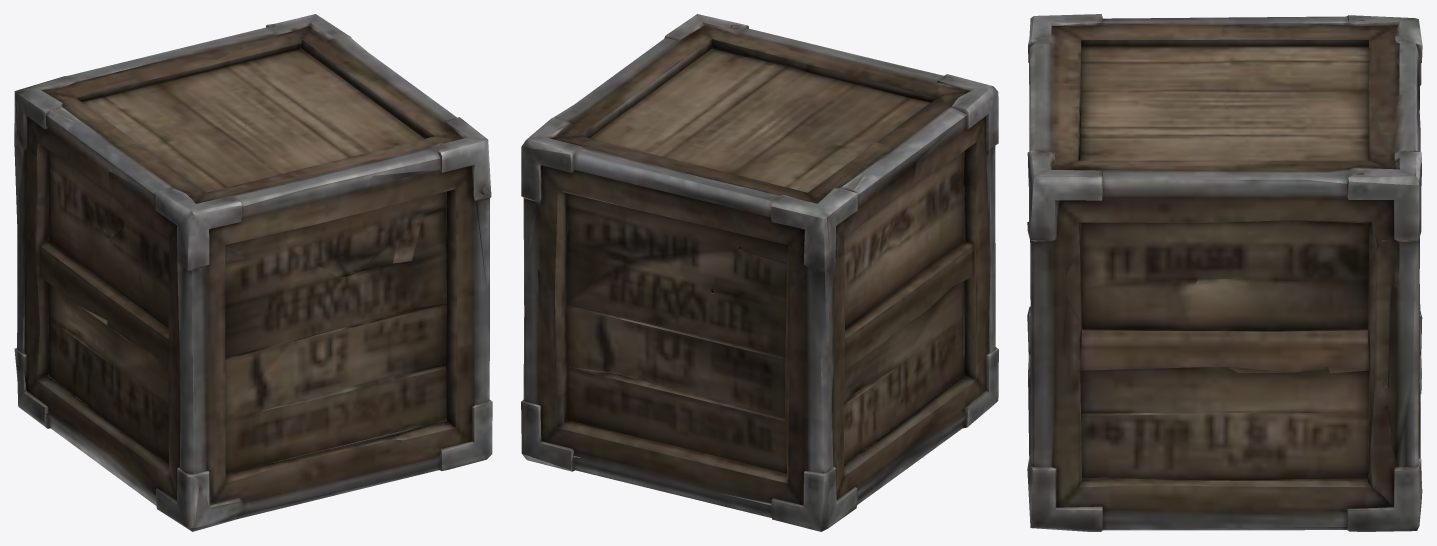
The model's file is crate.glb.
3 renders of one model, left to right at view 1: azimuth 30°, elevation 25°; view 2: azimuth 150°, elevation 25°; view 3: azimuth 270°, elevation 25°, orthographic. The views are drawn at different scales.
Visible parts, largest first — view 1: geometry_0; view 2: geometry_0; view 3: geometry_0.
Part boxes in pixels (left/top/right/bottom): geometry_0: left=14, top=14, right=492, bottom=531; geometry_0: left=521, top=14, right=998, bottom=531; geometry_0: left=1027, top=14, right=1422, bottom=531.
Bounding box in the file's own units: 1.79 × 1.79 × 1.79.
1 material, 1 textured.
